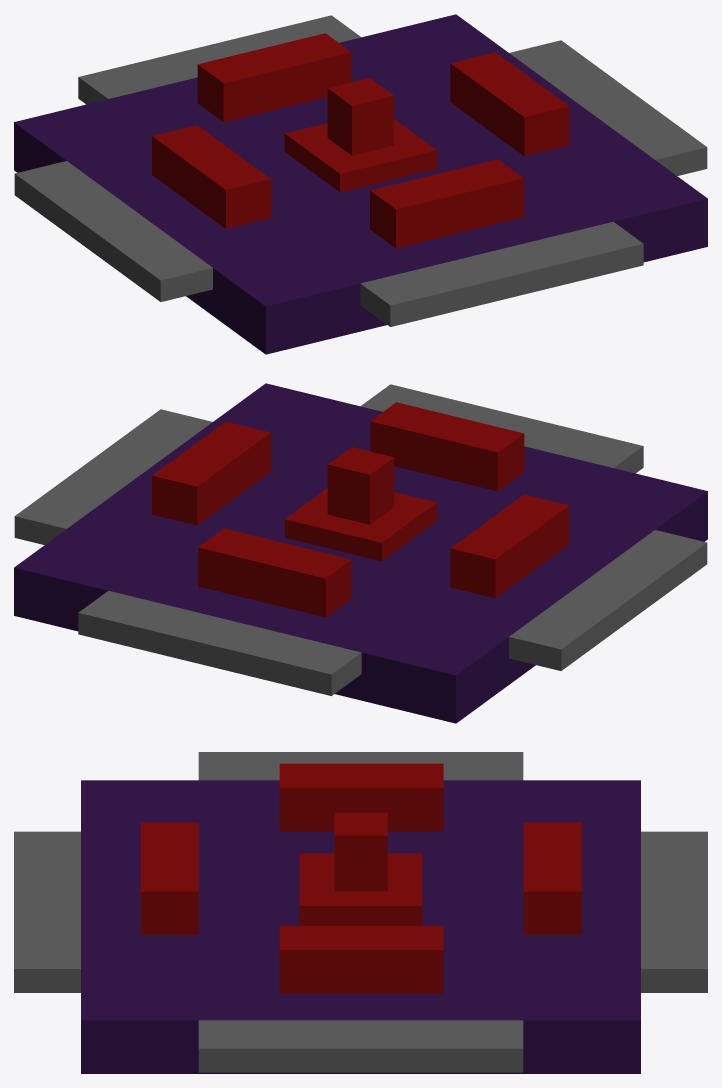
The model's file is arene_new_vanilla.FBX.
The picture shows the model from 3 angles, top to bottom: view 1: azimuth 30°, elevation 25°; view 2: azimuth 150°, elevation 25°; view 3: azimuth 270°, elevation 25°; orthographic projection. The views are drawn at different scales.
Parts seen in each view (by area): view 1: Box168, Box194, Box213, Box178, Box179, Box214, Box175, Box174, Box190, Box177, Box180; view 2: Box168, Box190, Box213, Box179, Box178, Box214, Box174, Box175, Box194, Box177, Box180; view 3: Box168, Box214, Box175, Box190, Box194, Box174, Box177, Box213, Box178, Box179, Box180.
Boxes of the visible parts, x1,y1,x2,y2 form: Box168: [14, 14, 707, 354]; Box194: [360, 221, 643, 326]; Box213: [14, 161, 212, 301]; Box178: [370, 159, 523, 248]; Box179: [197, 33, 351, 122]; Box214: [509, 40, 707, 175]; Box175: [450, 52, 569, 156]; Box174: [152, 125, 270, 228]; Box190: [78, 15, 360, 104]; Box177: [284, 119, 437, 192]; Box180: [327, 78, 394, 155]; Box168: [14, 383, 707, 723]; Box190: [78, 590, 361, 695]; Box213: [509, 530, 707, 670]; Box179: [198, 528, 351, 617]; Box178: [370, 402, 524, 491]; Box214: [14, 409, 212, 544]; Box174: [450, 494, 569, 598]; Box175: [152, 421, 270, 525]; Box194: [361, 384, 643, 473]; Box177: [284, 488, 437, 561]; Box180: [327, 447, 394, 524]; Box168: [81, 780, 640, 1073]; Box214: [198, 1020, 523, 1072]; Box175: [279, 925, 443, 993]; Box190: [641, 831, 707, 992]; Box194: [14, 831, 80, 992]; Box174: [279, 763, 443, 831]; Box177: [299, 853, 422, 925]; Box213: [198, 752, 523, 780]; Box178: [140, 822, 198, 934]; Box179: [523, 822, 581, 934]; Box180: [334, 812, 387, 891].
Size of the model in its own units: 7572 by 1544 by 7490.
